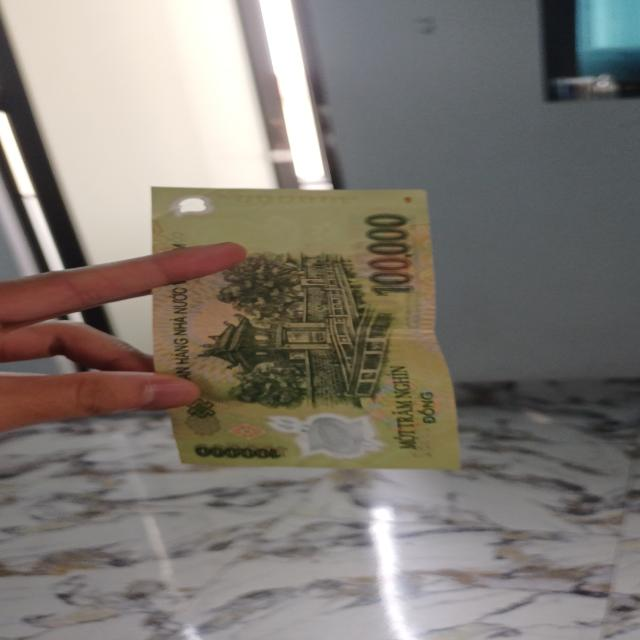100 000 VND: (141, 184, 471, 474)
